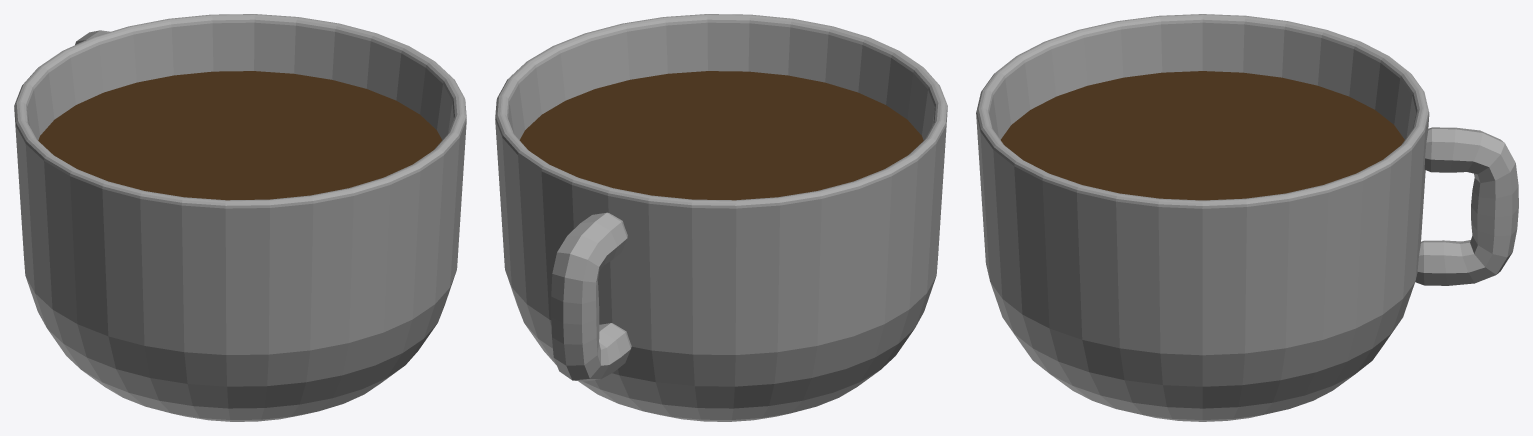
The model's file is Hot Chocolate.fbx.
3 renders of one model, left to right at view 1: azimuth 30°, elevation 25°; view 2: azimuth 150°, elevation 25°; view 3: azimuth 270°, elevation 25°, orthographic.
Visible parts, largest first — view 1: Sphere; view 2: Sphere, Sphere.001; view 3: Sphere, Sphere.001.
Part boxes in pixels (x1=…): Sphere: x1=14, y1=14, x2=466, y2=421; Sphere: x1=495, y1=14, x2=947, y2=421; Sphere.001: x1=551, y1=212, x2=631, y2=381; Sphere: x1=976, y1=14, x2=1429, y2=421; Sphere.001: x1=1415, y1=127, x2=1518, y2=285.
Bounding box in the file's own units: 205 × 138 × 245.
